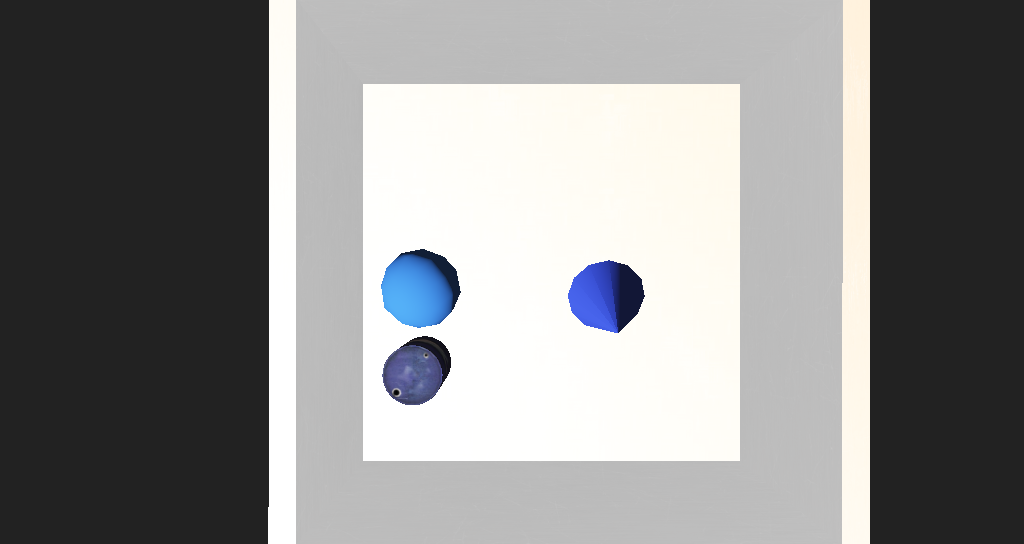cone: (371, 308, 424, 341)
cylinder: (519, 265, 586, 327)
sphere: (374, 253, 435, 301)
